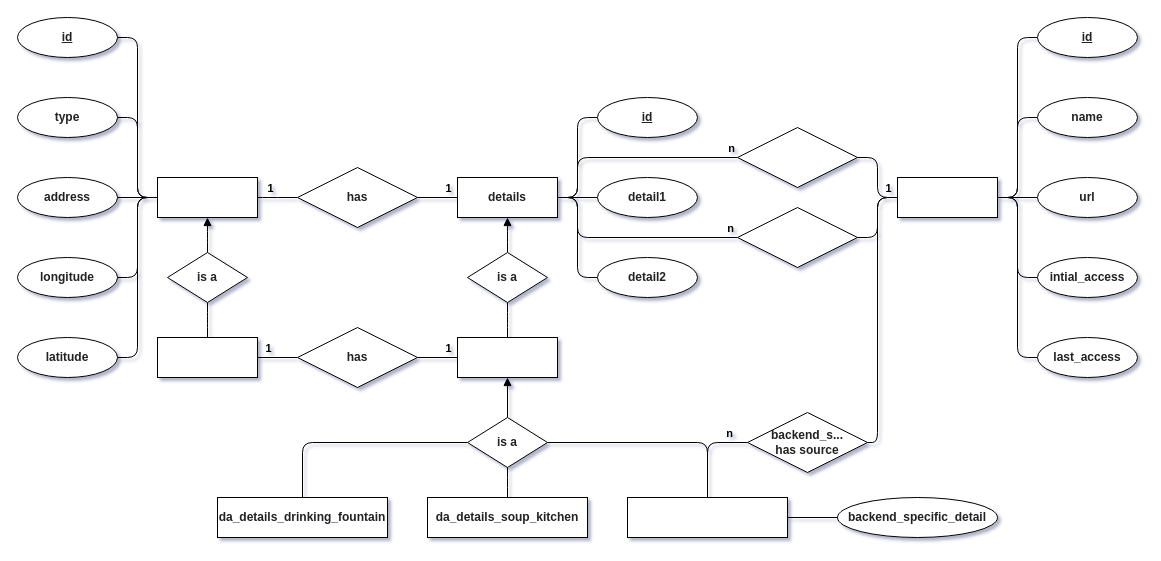
The diagram is 1161 pixels wide and 561 high, and some of its shapes have lost their labels. The shapes that lost their labels are listed below. From the top down, each one's centre as x and y in pixels, then its label:
[797,157]: detail1 has source
[207,197]: locations
[947,197]: sources
[797,237]: detail2 has source
[207,357]: da_locations
[507,357]: da_details
[707,517]: da_details_toilet
